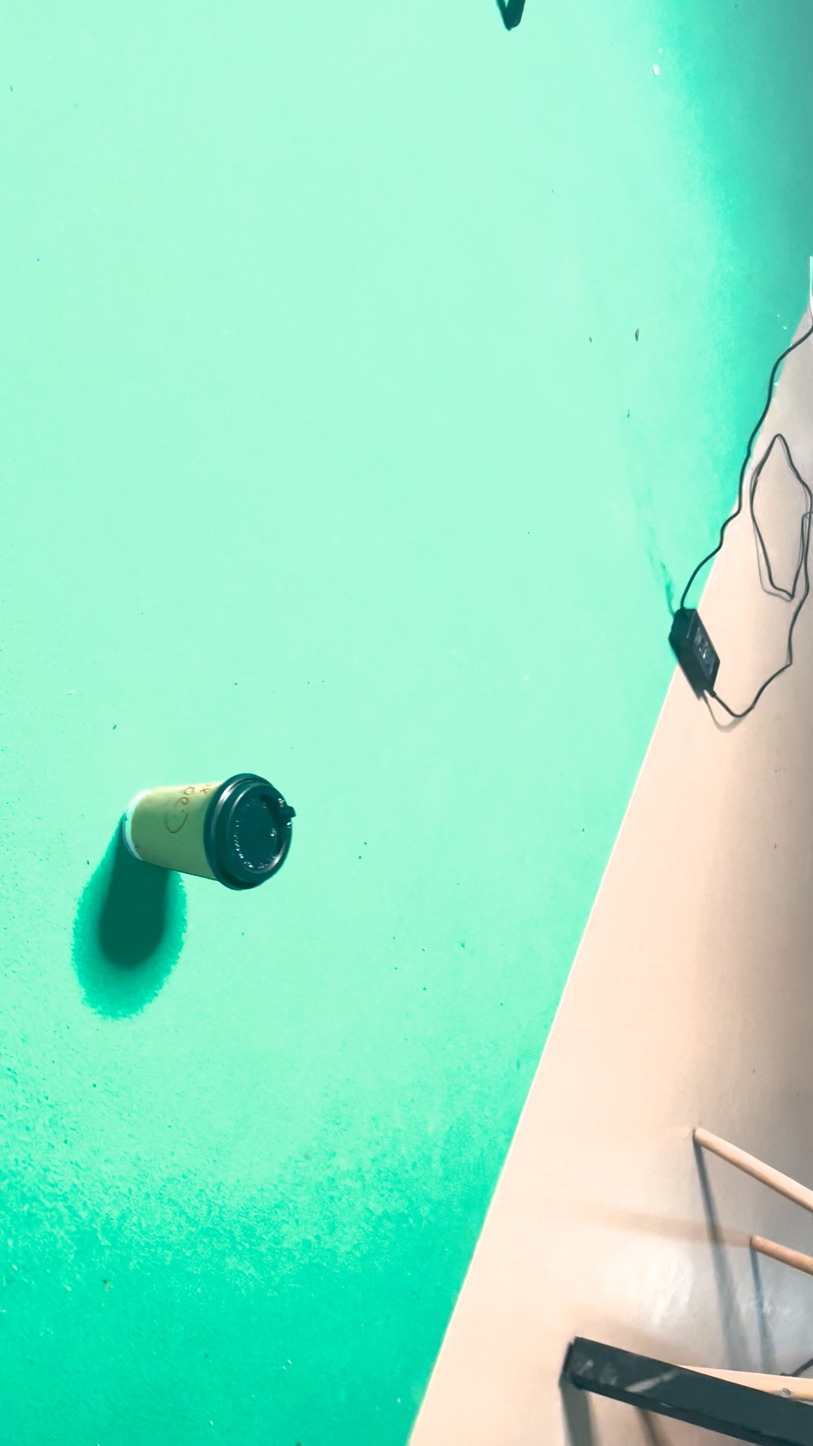cup: (421, 377, 507, 796)
